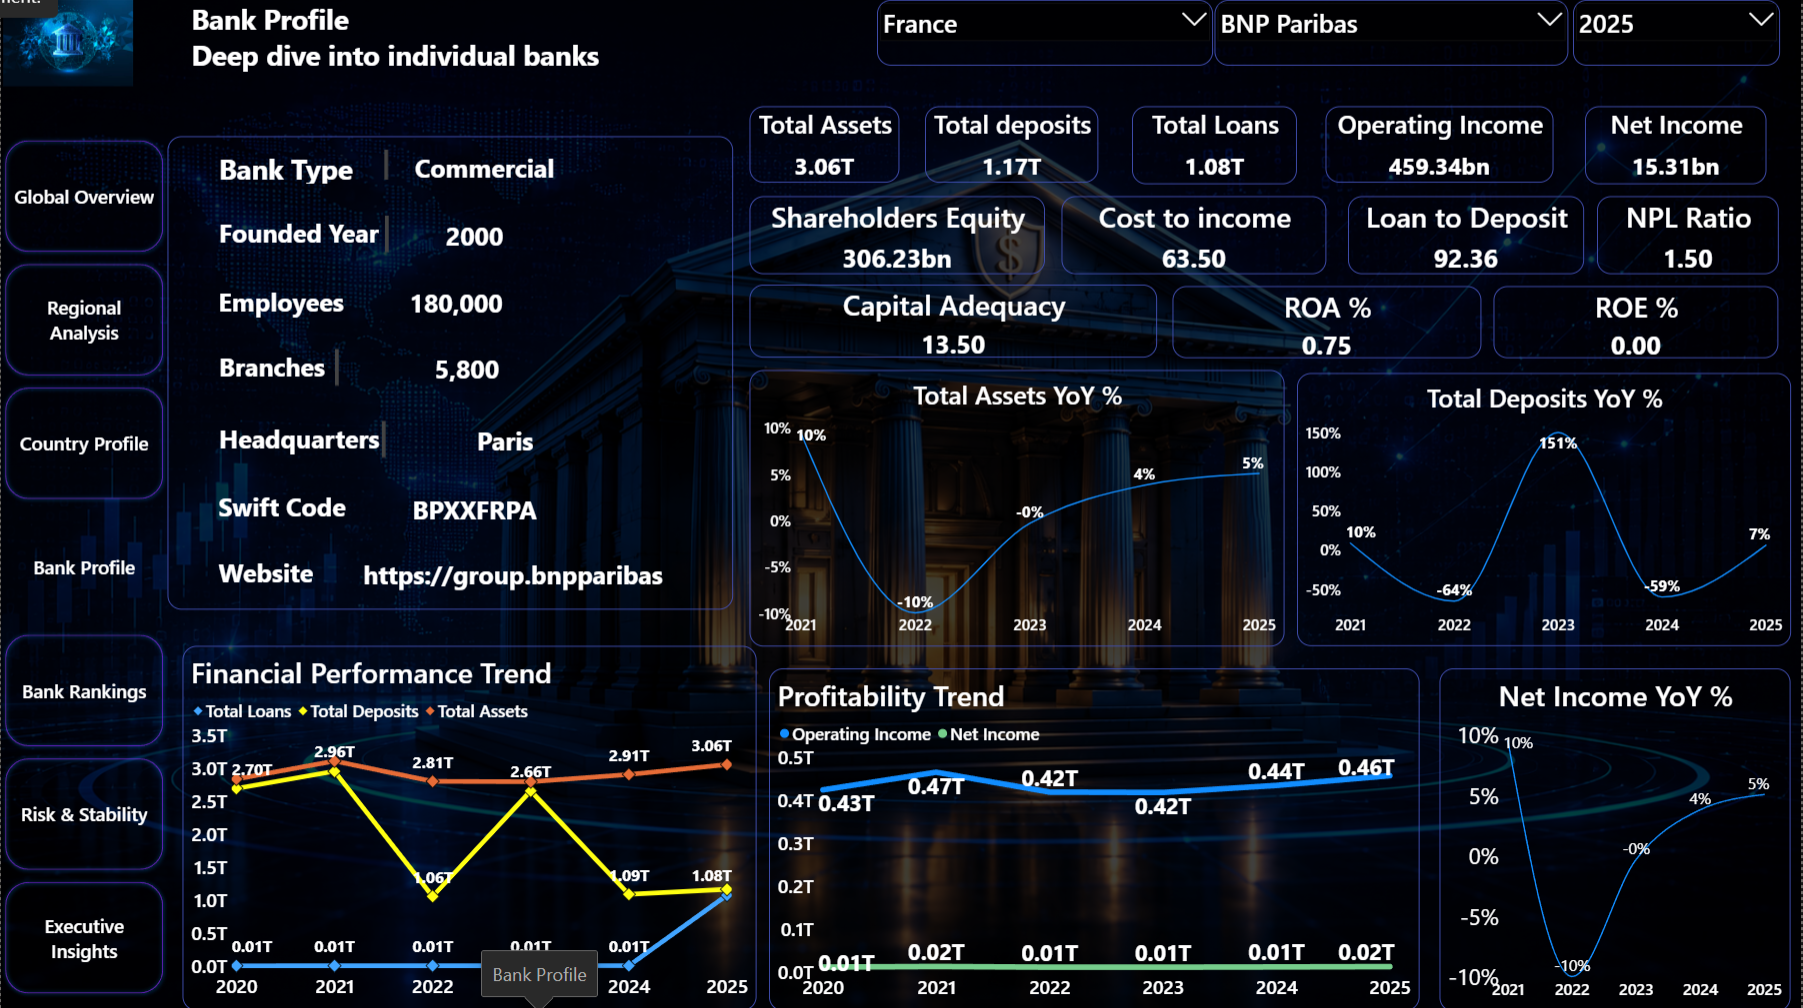

What the dashboard file says about the page in this screenshot:
{"tool":"powerbi","page":{"name":"Bank Profile","canvas":[3840,2160],"ordinal":3},"visuals":[{"type":"slicer","fields":{"Values":["public gbip_bank_analysis.bank_name"]},"box":[2590.1,0,755.6,140.9],"z":1000},{"type":"slicer","fields":{"Values":["DimYear.Year"]},"box":[3355.3,0,441.8,140.9],"z":2000},{"type":"slicer","fields":{"Values":["DimCountry.country_name"]},"box":[1869.8,0,717.2,140.9],"z":3000},{"type":"textbox","box":[406,0,1230.8,202.5],"z":5000},{"type":"cardVisual","fields":{"Data":["Bank_count.Founded Year"]},"box":[909.3,461,203.3,83.3],"z":6000},{"type":"cardVisual","fields":{"Data":["Bank_count.Employees"]},"box":[816.4,608.3,310,76.7],"z":7000},{"type":"cardVisual","fields":{"Data":["Bank_count.Branches"]},"box":[896.5,739.6,196.7,93.3],"z":8000},{"type":"cardVisual","fields":{"Data":["public gbip_bank_analysis.Headquarters"]},"box":[826,893.3,500,96.7],"z":9000},{"type":"cardVisual","fields":{"Data":["Bank_count.Official Website"]},"box":[699.6,1192.6,783.3,70],"z":10000},{"type":"cardVisual","title":"Total Assets","fields":{"Data":["Sum(public gbip_bank_analysis.total_assets)"]},"box":[1598.6,228.4,320,163.3],"z":11000},{"type":"cardVisual","title":"Total deposits","fields":{"Data":["Sum(public gbip_bank_analysis.total_deposits)"]},"box":[1972,228.4,370,163.3],"z":12000},{"type":"cardVisual","title":"Total Loans","fields":{"Data":["Sum(public gbip_bank_analysis.total_loans)"]},"box":[2414.2,228.4,352.2,166.5],"z":13000},{"type":"cardVisual","title":"Shareholders Equity","fields":{"Data":["Avg(public gbip_bank_analysis.shareholders_equity)"]},"box":[1597.6,419.4,630.7,166.5],"z":14000},{"type":"cardVisual","title":"Net Income","fields":{"Data":["Sum(public gbip_bank_analysis.net_income)"]},"box":[3382.1,228.4,387.4,166.5],"z":15000},{"type":"cardVisual","title":"ROE %","fields":{"Data":["Sum(public gbip_bank_analysis.roe_percent)"]},"box":[3185.6,611.5,608.3,153.7],"z":16000},{"type":"cardVisual","title":"ROA %","fields":{"Data":["Sum(public gbip_bank_analysis.roa_percent)"]},"box":[2500.5,611.5,659.5,153.7],"z":17000},{"type":"cardVisual","title":"Operating Income","fields":{"Data":["Sum(public gbip_bank_analysis.operating_income)"]},"box":[2827,227.3,486.6,163.3],"z":18000},{"type":"cardVisual","title":"NPL Ratio","fields":{"Data":["Bank_count.NPL Ratio"]},"box":[3406.5,419.4,387.9,166.7],"z":19000},{"type":"cardVisual","title":"Capital Adequacy","fields":{"Data":["Bank_count.Capital Adequacy"]},"box":[1598.6,609,870,155.9],"z":20000},{"type":"cardVisual","title":"Cost to income","fields":{"Data":["Bank_count.Cost to Income"]},"box":[2263.6,419.4,565.5,166.7],"z":21000},{"type":"cardVisual","title":"Loan to Deposit ","fields":{"Data":["Bank_count.Loan to Deposit"]},"box":[2875.1,419.4,503.9,166.7],"z":22000},{"type":"textbox","box":[464.2,461,363.3,83.3],"z":23000},{"type":"textbox","box":[464.2,608.3,290,83.3],"z":24000},{"type":"textbox","box":[464.2,746,256.7,83.3],"z":25000},{"type":"textbox","box":[464.2,899.7,356.7,83.3],"z":26000},{"type":"textbox","box":[464.2,1187.8,256.7,83.3],"z":27000},{"type":"lineChart","title":"Financial Performance Trend","fields":{"Category":["public gbip_bank_analysis.fiscal_year"],"Y":["Sum(public gbip_bank_analysis.total_loans)","Sum(public gbip_bank_analysis.total_deposits)","Sum(public gbip_bank_analysis.total_assets)"]},"box":[387.9,1381.1,1225.2,779.4],"z":28000},{"type":"lineChart","title":"Profitability Trend","fields":{"Category":["public gbip_bank_analysis.fiscal_year"],"Y":["Sum(public gbip_bank_analysis.operating_income)","Sum(public gbip_bank_analysis.net_income)"]},"box":[1639.2,1427.9,1388.4,732.2],"z":29000},{"type":"lineChart","title":"Total Assets YoY % ","fields":{"Category":["DimYear.Year"],"Y":["Bank_count.Total Assets YoY %"]},"box":[1598.6,790.2,1141.9,590.9],"z":30000},{"type":"lineChart","title":"Total Deposits YoY % ","fields":{"Category":["DimYear.Year"],"Y":["Bank_count.Total Deposits YoY %"]},"box":[2765.8,797.5,1054.9,583.6],"z":31000},{"type":"lineChart","title":"Net Income YoY % ","fields":{"Category":["DimYear.Year"],"Y":["Bank_count.Net Income YoY %"]},"box":[3070.4,1427.9,749.2,733.2],"z":32000},{"type":"textbox","box":[464.2,1046.9,291.3,121.7],"z":33000},{"type":"cardVisual","fields":{"Data":["Min(public gbip_bank_analysis.swift_code)"]},"box":[816.4,1056.5,389.2,63.3],"z":34000},{"type":"cardVisual","fields":{"Data":["Min(public gbip_bank_analysis.bank_type)"]},"box":[819.6,323.4,425.8,70.4],"z":35000},{"type":"textbox","box":[464.2,320.2,361.8,70.4],"z":36000},{"type":"shape","box":[355.2,290,1207.1,1011.4],"z":37000},{"type":"pageNavigator","box":[0,290,355.2,1845.1],"z":37001},{"type":"image","box":[0,0,286.4,184.9],"z":37002}]}

Visuals, with their boxes in screenshot pixels (x1, y1, x2, y2), scaled from the page's 3840x2160 canvas onto the 1803x1008 screenshot:
slicer - public gbip_bank_analysis.bank_name: select_region(1216, 0, 1571, 66)
slicer - DimYear.Year: select_region(1575, 0, 1783, 66)
slicer - DimCountry.country_name: select_region(878, 0, 1215, 66)
textbox: select_region(191, 0, 769, 94)
cardVisual - Bank_count.Founded Year: select_region(427, 215, 522, 254)
cardVisual - Bank_count.Employees: select_region(383, 284, 529, 320)
cardVisual - Bank_count.Branches: select_region(421, 345, 513, 389)
cardVisual - public gbip_bank_analysis.Headquarters: select_region(388, 417, 623, 462)
cardVisual - Bank_count.Official Website: select_region(328, 557, 696, 589)
"Total Assets" cardVisual: select_region(751, 107, 901, 183)
"Total deposits" cardVisual: select_region(926, 107, 1100, 183)
"Total Loans" cardVisual: select_region(1134, 107, 1299, 184)
"Shareholders Equity" cardVisual: select_region(750, 196, 1046, 273)
"Net Income" cardVisual: select_region(1588, 107, 1770, 184)
"ROE %" cardVisual: select_region(1496, 285, 1781, 357)
"ROA %" cardVisual: select_region(1174, 285, 1484, 357)
"Operating Income" cardVisual: select_region(1327, 106, 1556, 182)
"NPL Ratio" cardVisual: select_region(1599, 196, 1782, 274)
"Capital Adequacy" cardVisual: select_region(751, 284, 1159, 357)
"Cost to income" cardVisual: select_region(1063, 196, 1328, 274)
"Loan to Deposit " cardVisual: select_region(1350, 196, 1587, 274)
textbox: select_region(218, 215, 389, 254)
textbox: select_region(218, 284, 354, 323)
textbox: select_region(218, 348, 338, 387)
textbox: select_region(218, 420, 385, 459)
textbox: select_region(218, 554, 338, 593)
"Financial Performance Trend" lineChart: select_region(182, 645, 757, 1007)
"Profitability Trend" lineChart: select_region(770, 666, 1422, 1007)
"Total Assets YoY % " lineChart: select_region(751, 369, 1287, 645)
"Total Deposits YoY % " lineChart: select_region(1299, 372, 1794, 645)
"Net Income YoY % " lineChart: select_region(1442, 666, 1793, 1007)
textbox: select_region(218, 489, 355, 545)
cardVisual - Min(public gbip_bank_analysis.swift_code): select_region(383, 493, 566, 523)
cardVisual - Min(public gbip_bank_analysis.bank_type): select_region(385, 151, 585, 184)
textbox: select_region(218, 149, 388, 182)
shape: select_region(167, 135, 734, 607)
pageNavigator: select_region(0, 135, 167, 996)
image: select_region(0, 0, 134, 86)
